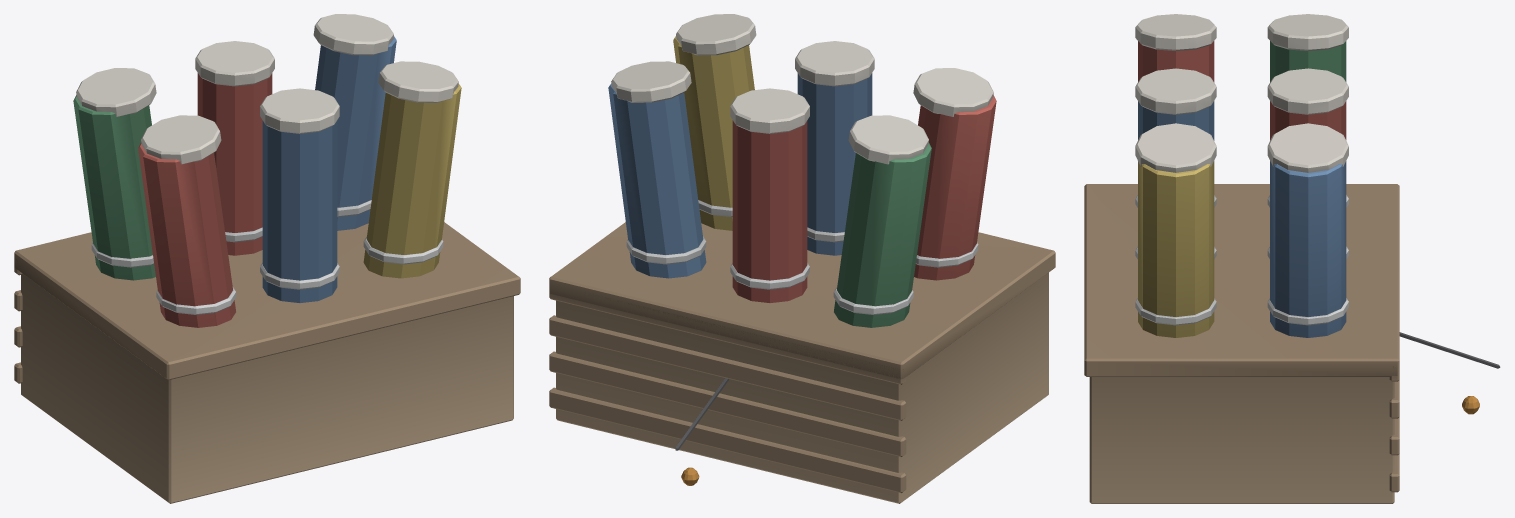
Rendered from newyear_firework_launcher.glb.
The picture shows the model from 3 angles, left to right: view 1: azimuth 30°, elevation 25°; view 2: azimuth 150°, elevation 25°; view 3: azimuth 270°, elevation 25°; orthographic projection. The views are drawn at different scales.
Size of the model in its own units: 0.82 by 0.7354 by 0.8181.
